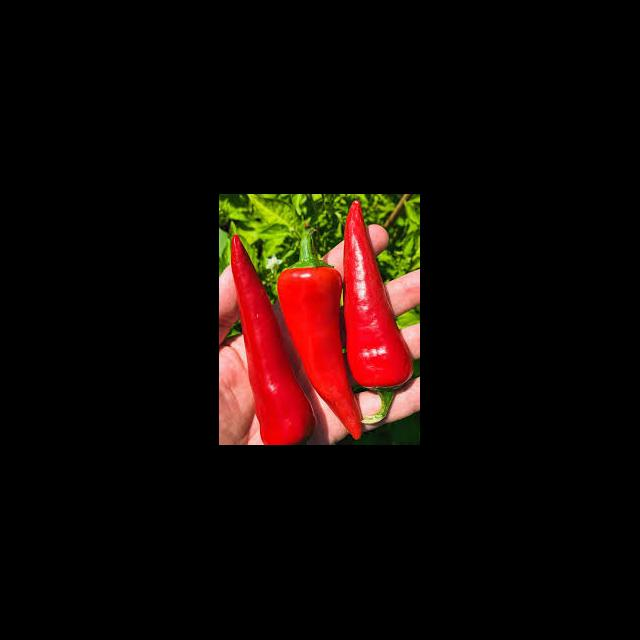chili_pepper: (235, 244, 308, 441), (342, 204, 416, 396), (291, 272, 359, 438), (404, 198, 420, 225)
